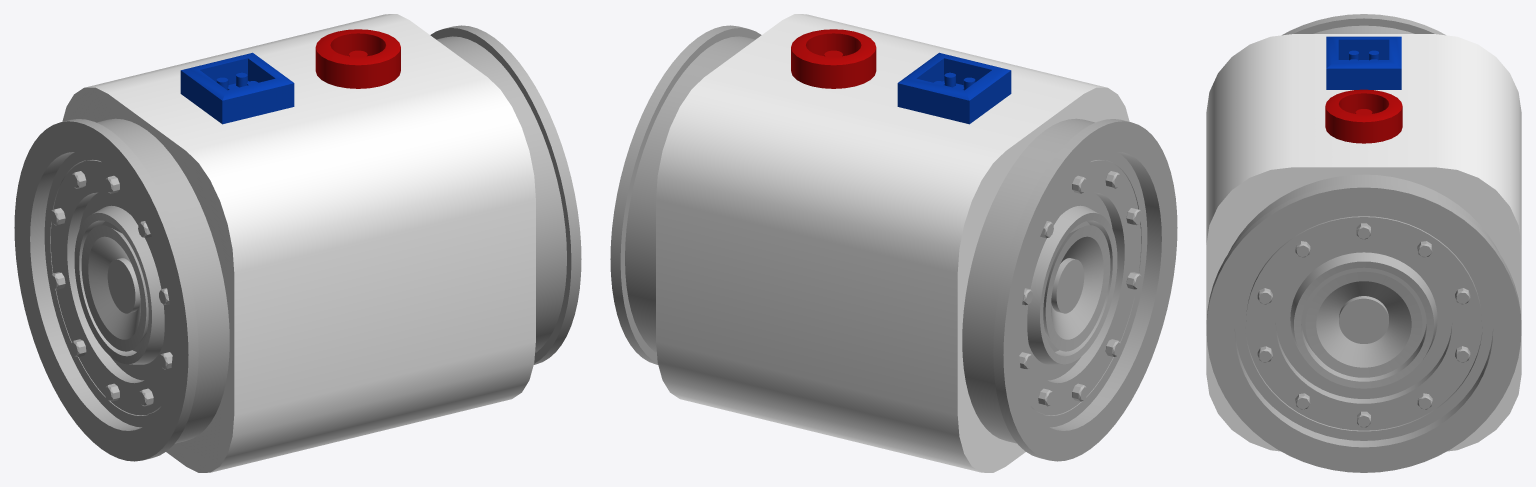
The model's file is FluidPump.gltf.
The picture shows the model from 3 angles, left to right: view 1: azimuth 30°, elevation 25°; view 2: azimuth 150°, elevation 25°; view 3: azimuth 270°, elevation 25°; orthographic projection. The views are drawn at different scales.
Parts seen in each view (by area): view 1: base; view 2: base; view 3: base.
Part boxes in pixels (box(x1,y1,x2,y2)): base: box(14, 14, 581, 472); base: box(610, 14, 1177, 472); base: box(1206, 14, 1521, 472).
Bounding box in the file's own units: 0.3257 × 0.2706 × 0.25.
